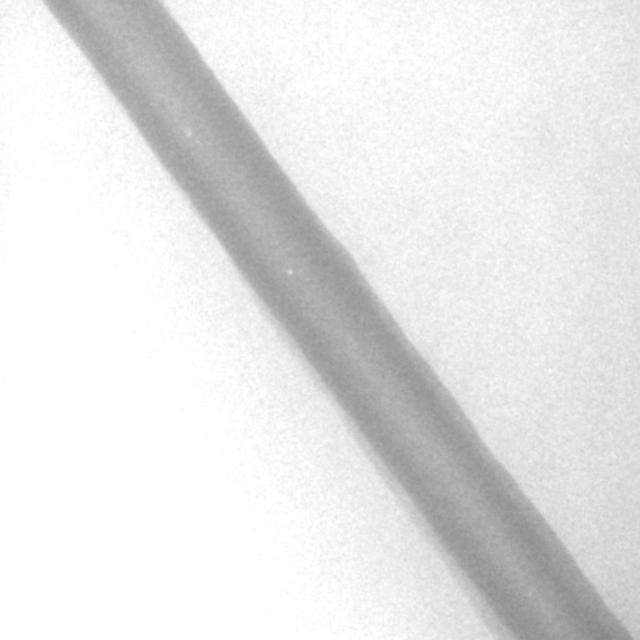air hole: (183, 125, 195, 139), (285, 265, 294, 277)
